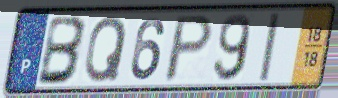6: (130, 16, 166, 82)
9: (211, 12, 253, 83)
B: (35, 14, 89, 88)
I: (257, 10, 282, 84)
P: (161, 12, 216, 85)
Q: (82, 15, 130, 85)
